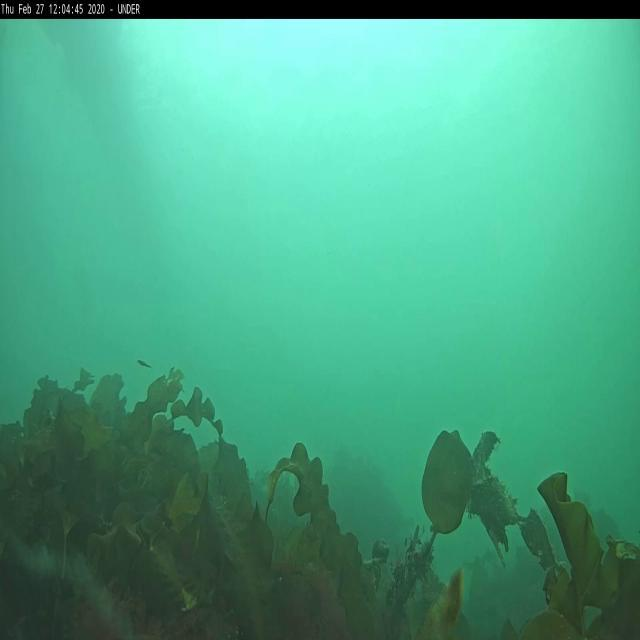fish: (136, 356, 154, 369)
